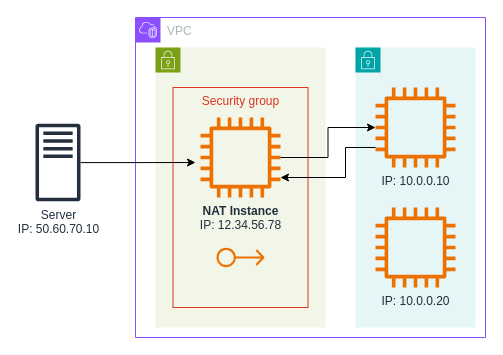
Image size: 503x355. Some labels were removed from this diagram. The shapes that lost their labels are listed below. From the top down, each one's box as (x1, y1, x2, y2) in pixels, then its label:
(154, 46, 326, 328): Public subnet
(354, 46, 476, 328): Private subnet
(216, 247, 264, 267): EIP
